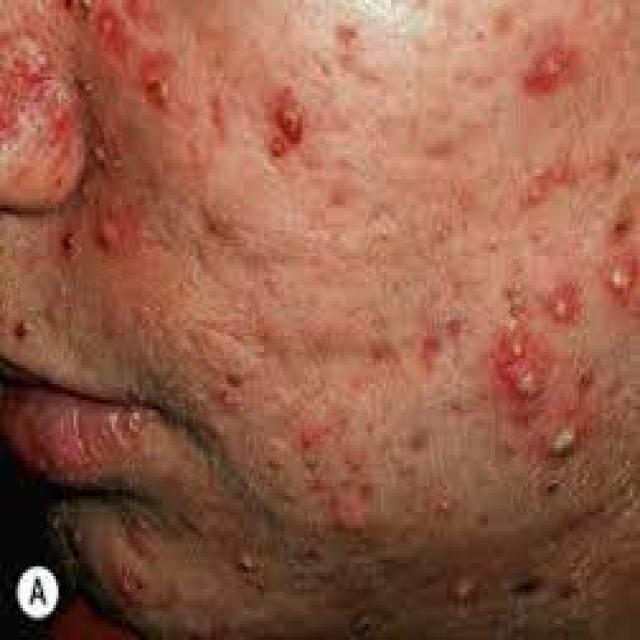Acne: (490, 318, 554, 407), (516, 31, 583, 99), (261, 81, 310, 162), (135, 48, 185, 117), (91, 197, 144, 257), (598, 245, 640, 318), (84, 0, 138, 56), (539, 274, 586, 334), (532, 410, 584, 463), (524, 152, 570, 209), (47, 215, 88, 268), (213, 358, 251, 414), (7, 305, 49, 344), (415, 323, 447, 373)
